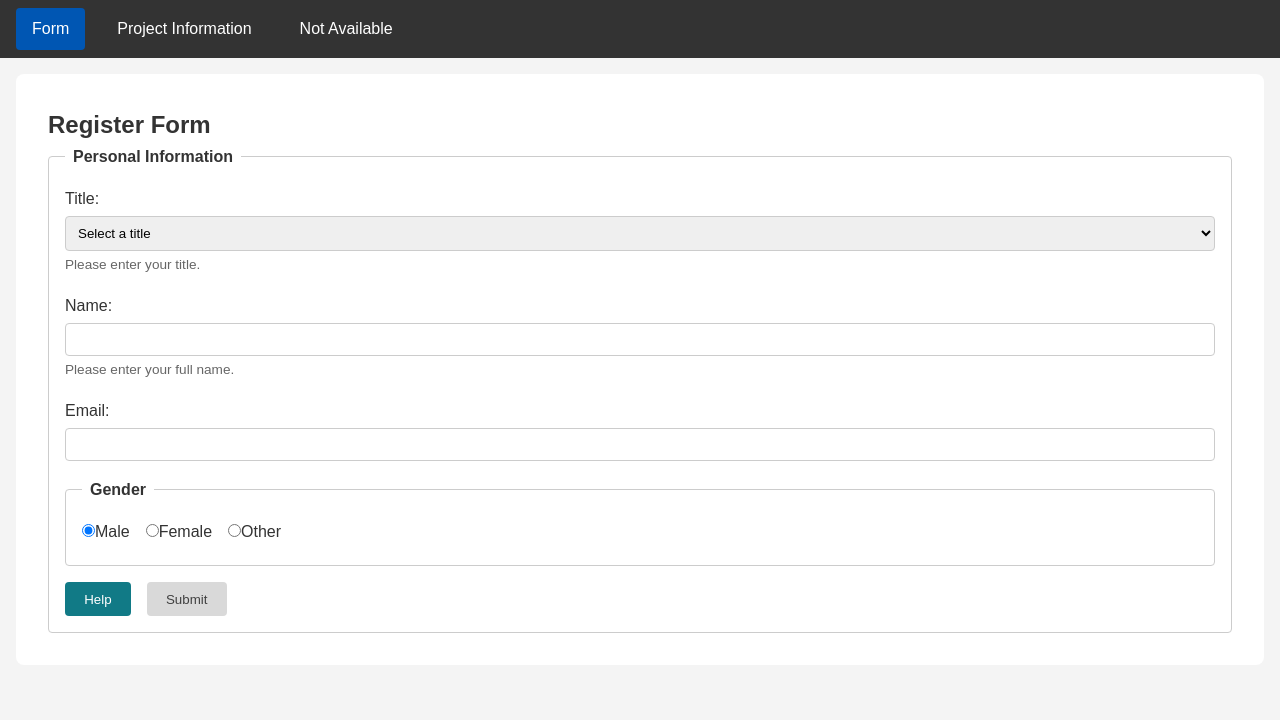
Test: Accessibility and Functional Coverage Tests › Should submit the form successfully when all fields are valid
Select "Mr." in the dropdown labelled "Title:" at [640, 234], box 65,216 -> 1215,251
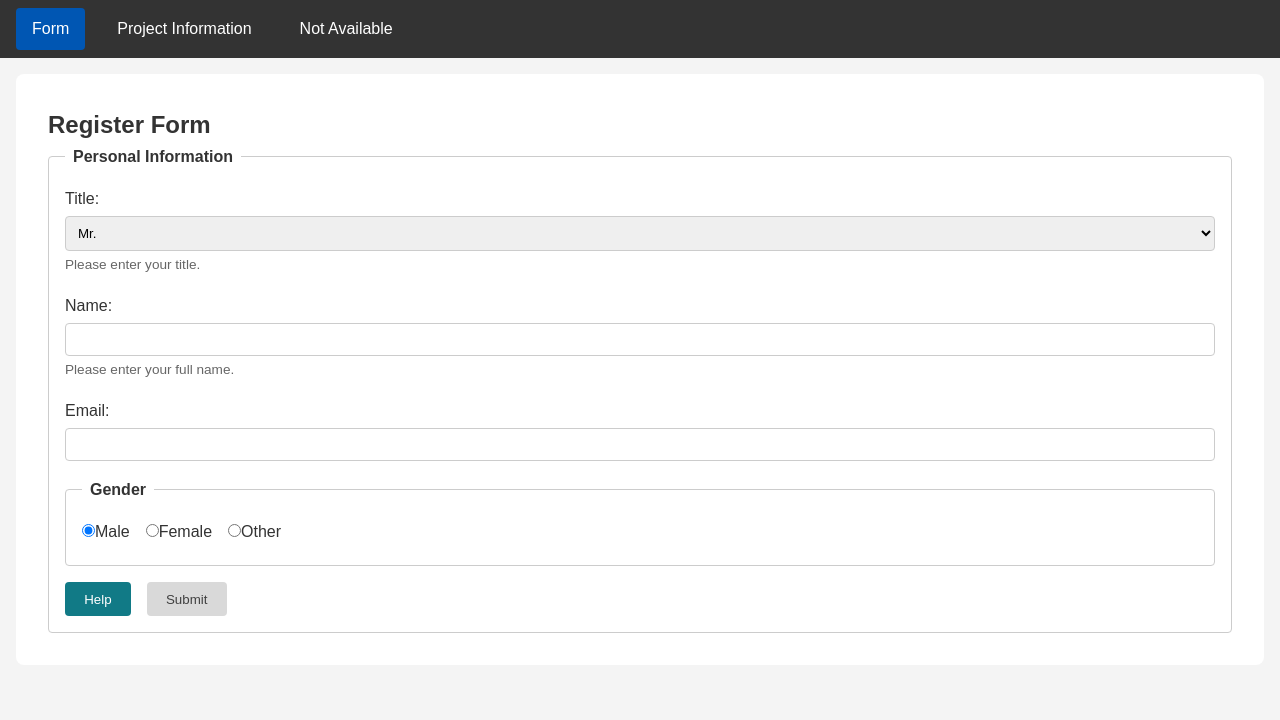
Type "John Doe" into the field labelled "Name:" at [640, 340], box 65,323 -> 1215,356
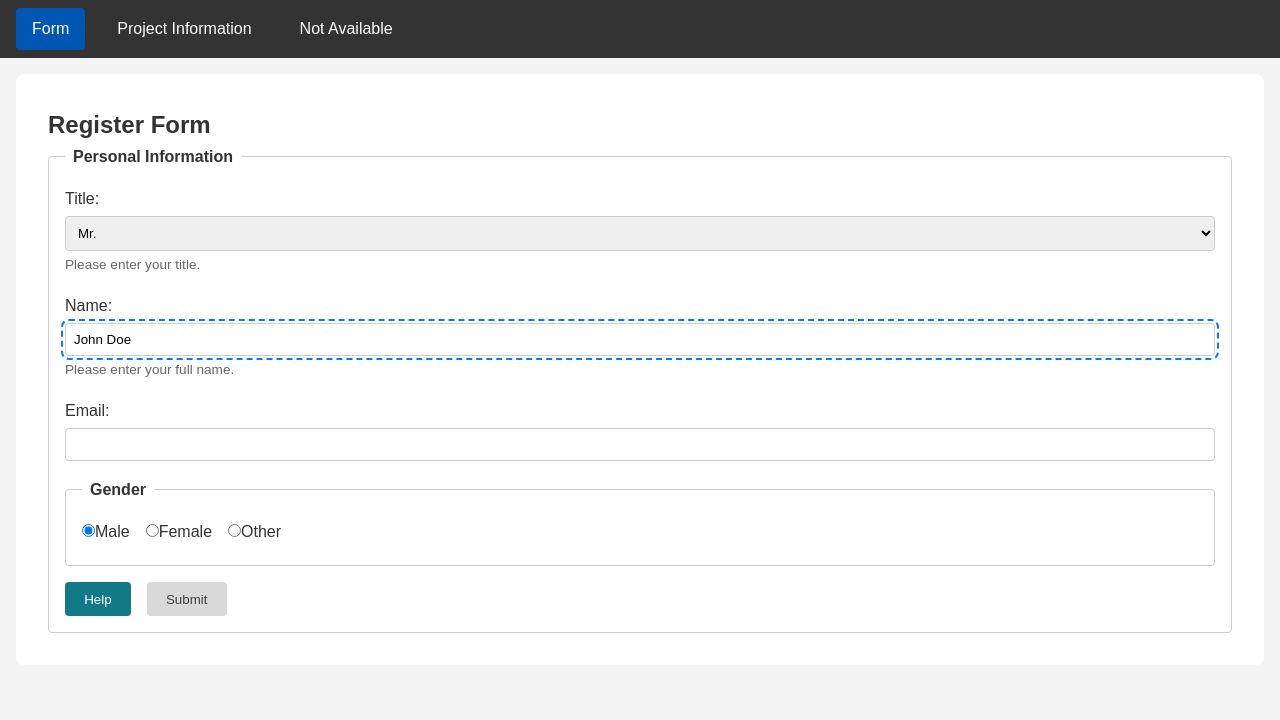
Type "john.doe@example.com" into the field labelled "Email:" at [640, 445], box 65,428 -> 1215,461
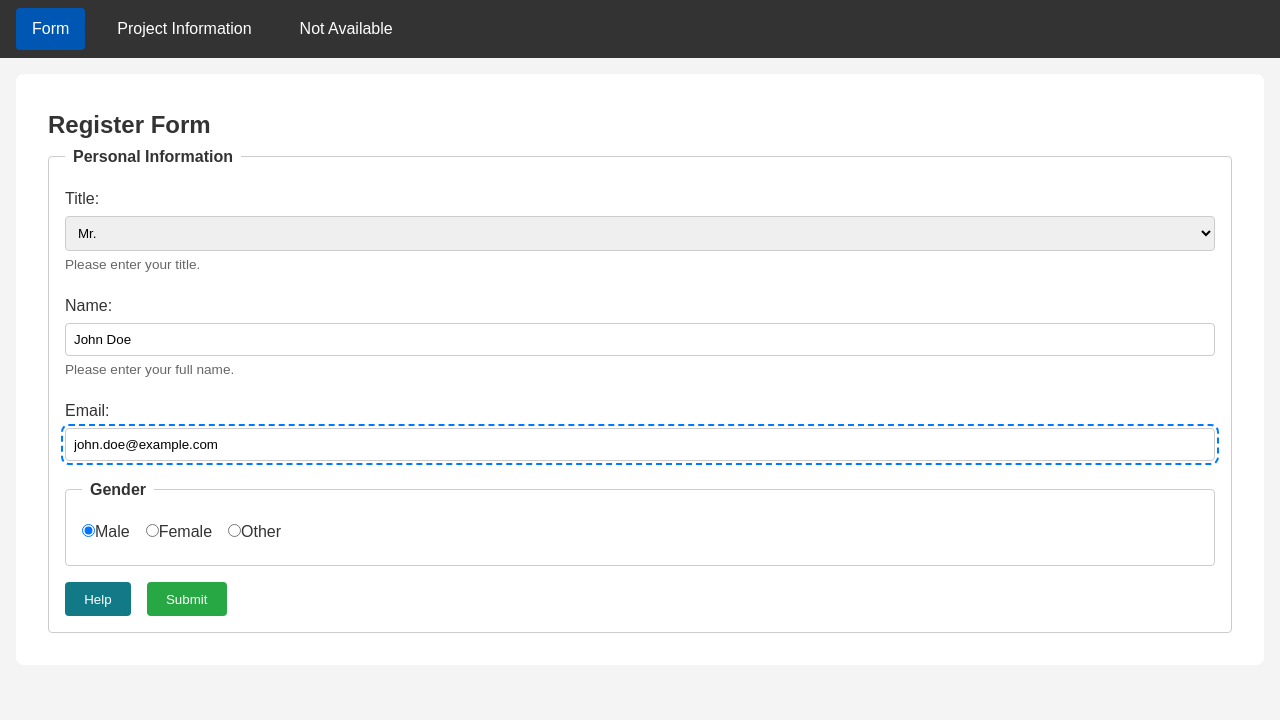
Click the button "Submit" at [187, 599], box 147,582 -> 227,616
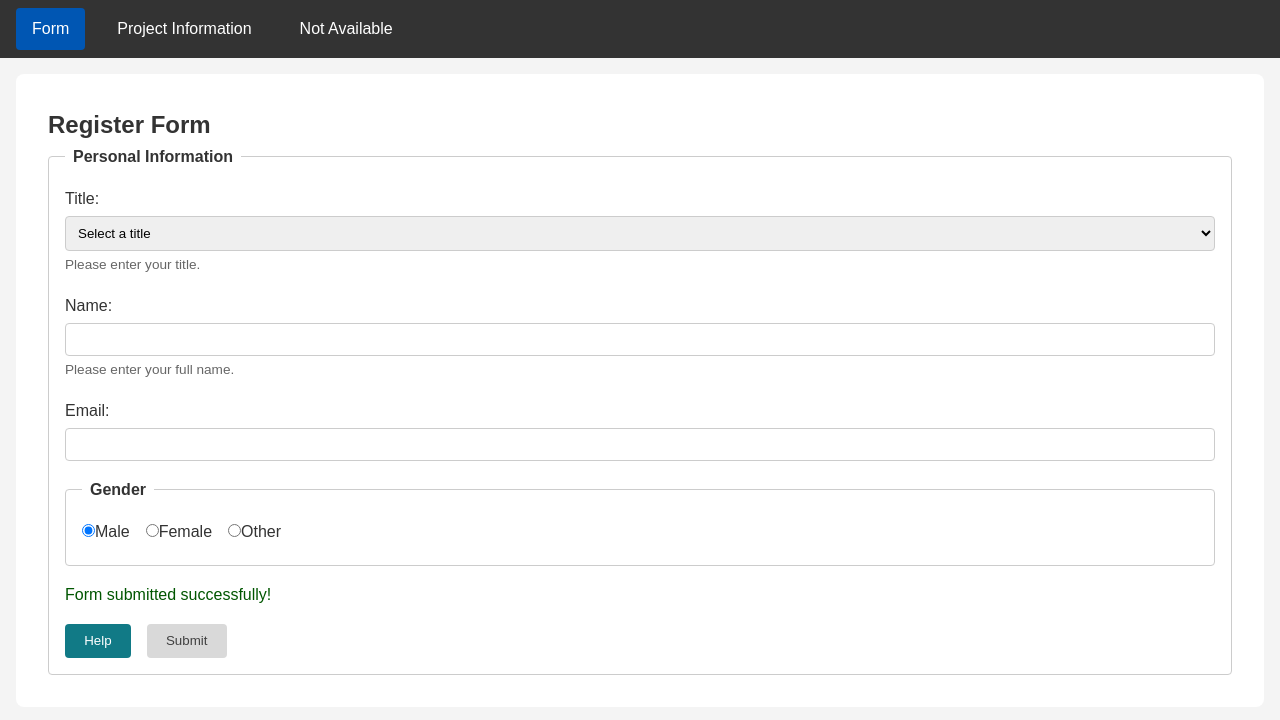
expect the text "Form submitted successfully!" is shown: met, box 65,586 -> 271,603
